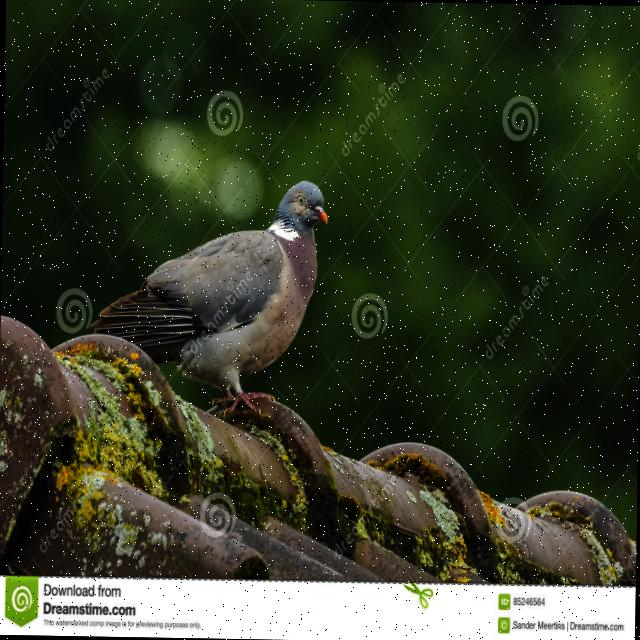bird: (88, 175, 332, 416)
